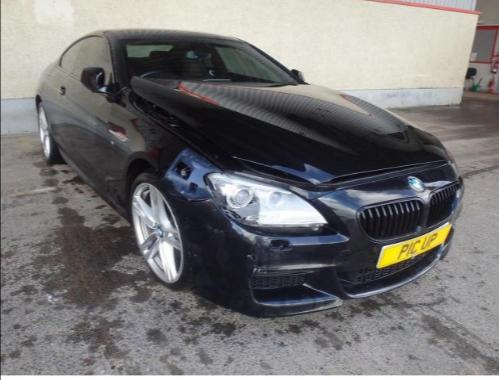Broken part: (124, 79, 449, 205)
Missing part: (162, 148, 221, 201), (271, 239, 290, 248)
Scratch: (252, 266, 265, 273), (246, 253, 258, 260)
